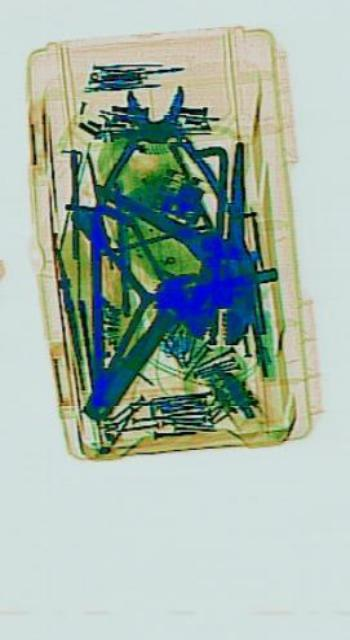Pliers: (86, 80, 227, 226)
